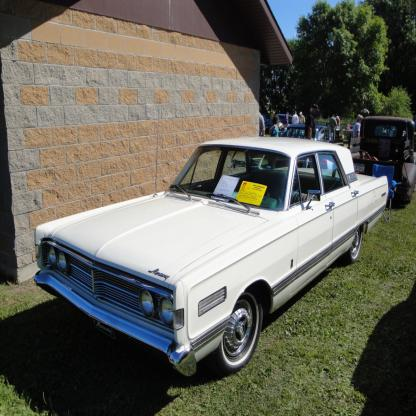Car: (35, 137, 392, 377)
